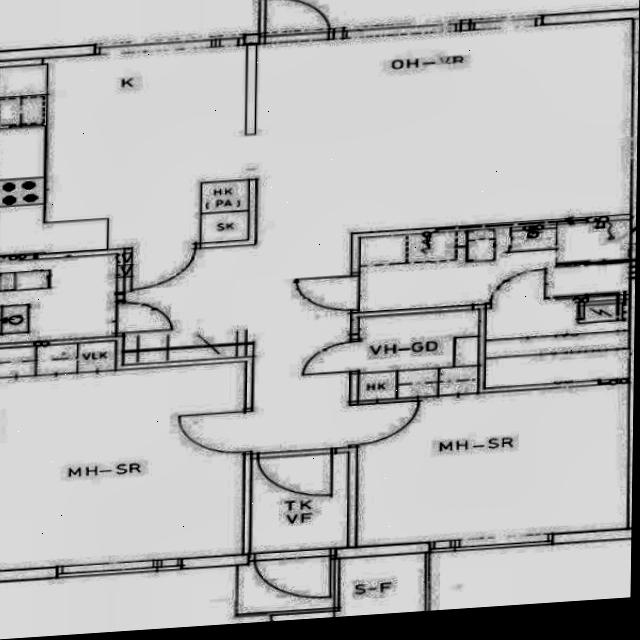room: (0, 341, 246, 570), (347, 383, 638, 546), (355, 219, 635, 312), (480, 300, 634, 388), (353, 310, 484, 400), (0, 254, 122, 344), (249, 450, 349, 556)
